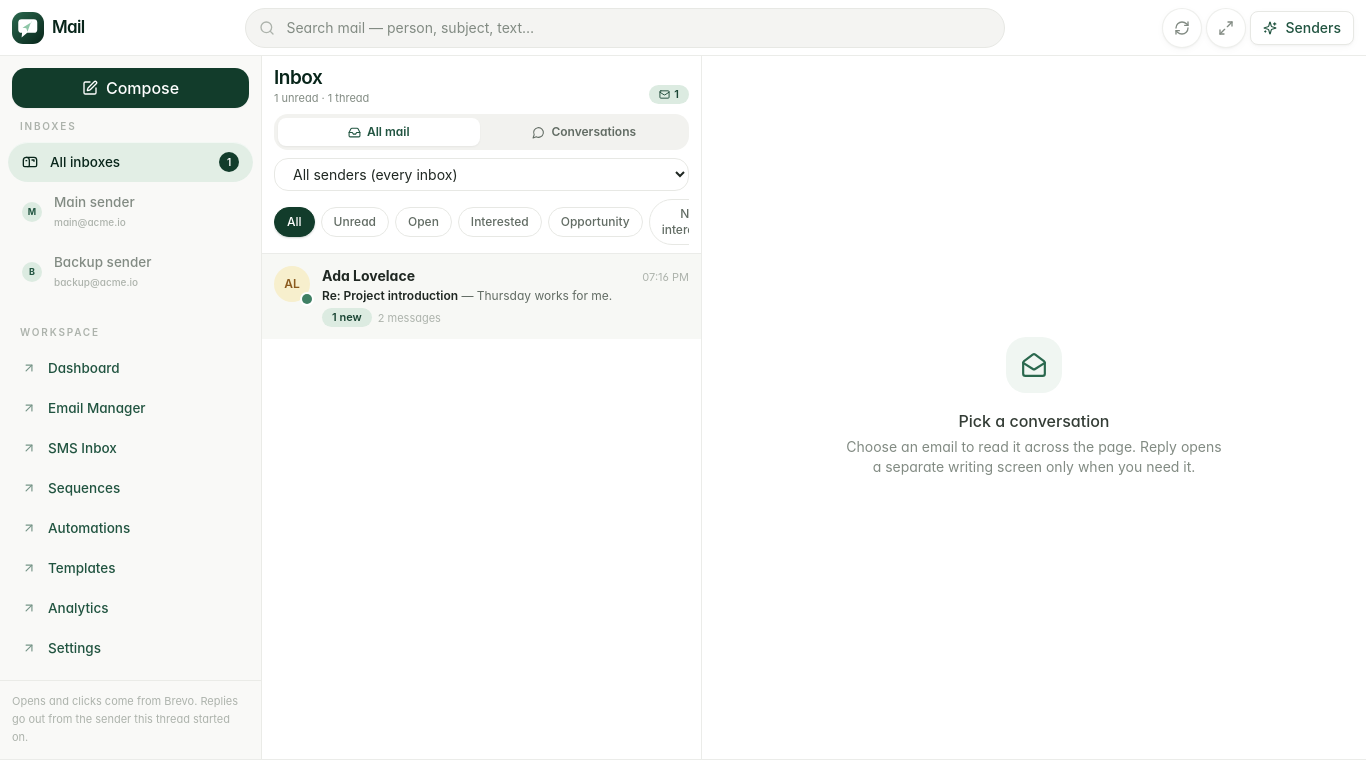
Scenario: EmailInboxPage — reading first, reply on its own page › keeps the draft and shows the reason when the provider returns success=false
Click the button "Ada Lovelace": click(482, 297) [262,254,701,339]
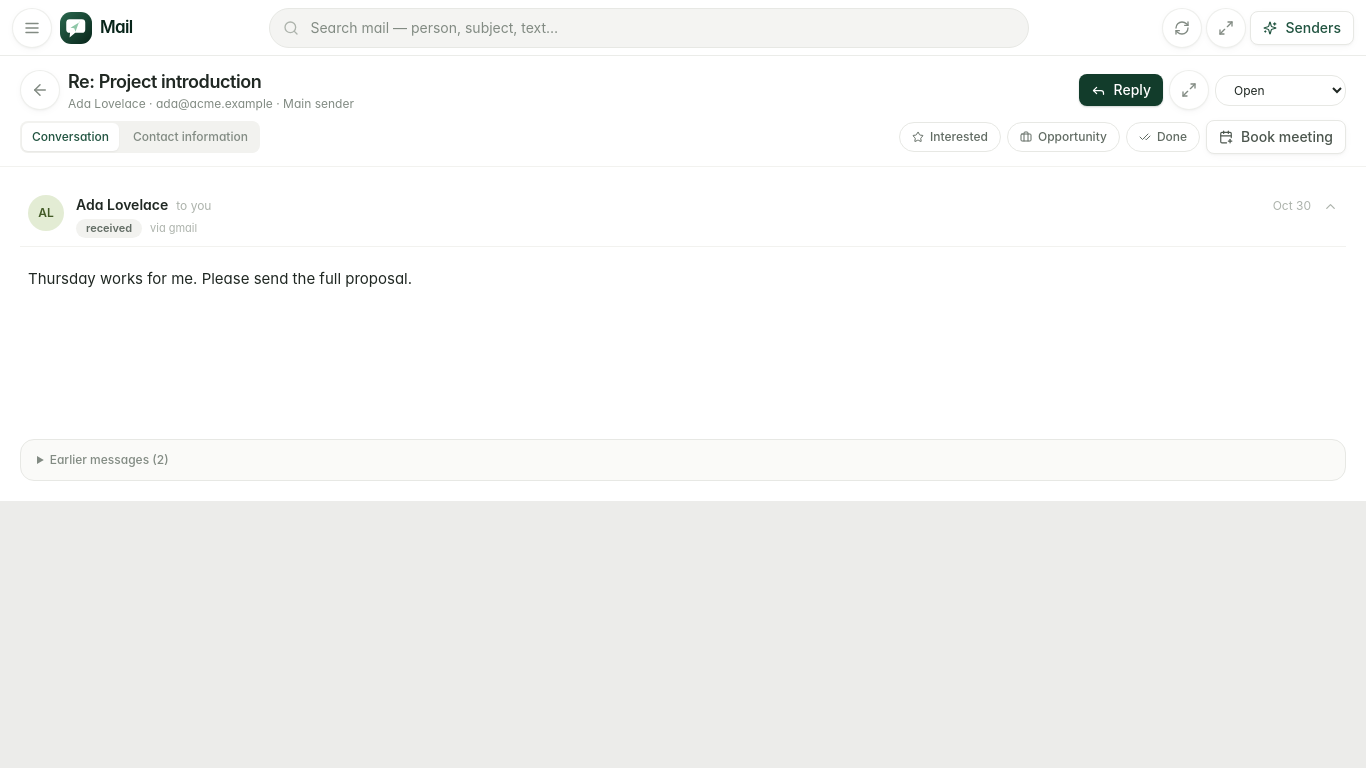
Click the button "Reply": click(1121, 90) [1079,74,1163,106]
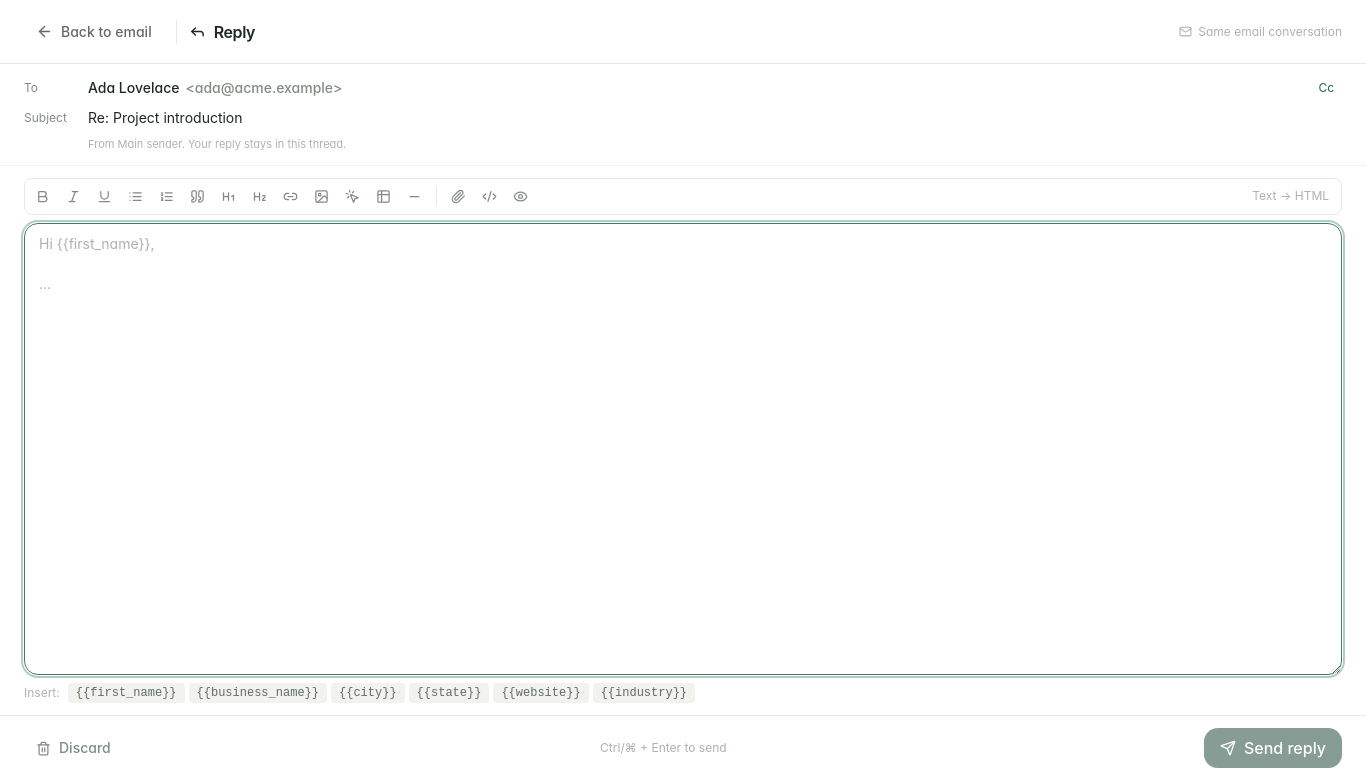
In the text box named "Reply message": (683, 449) [24,222,1342,675], type "Do not lose this"
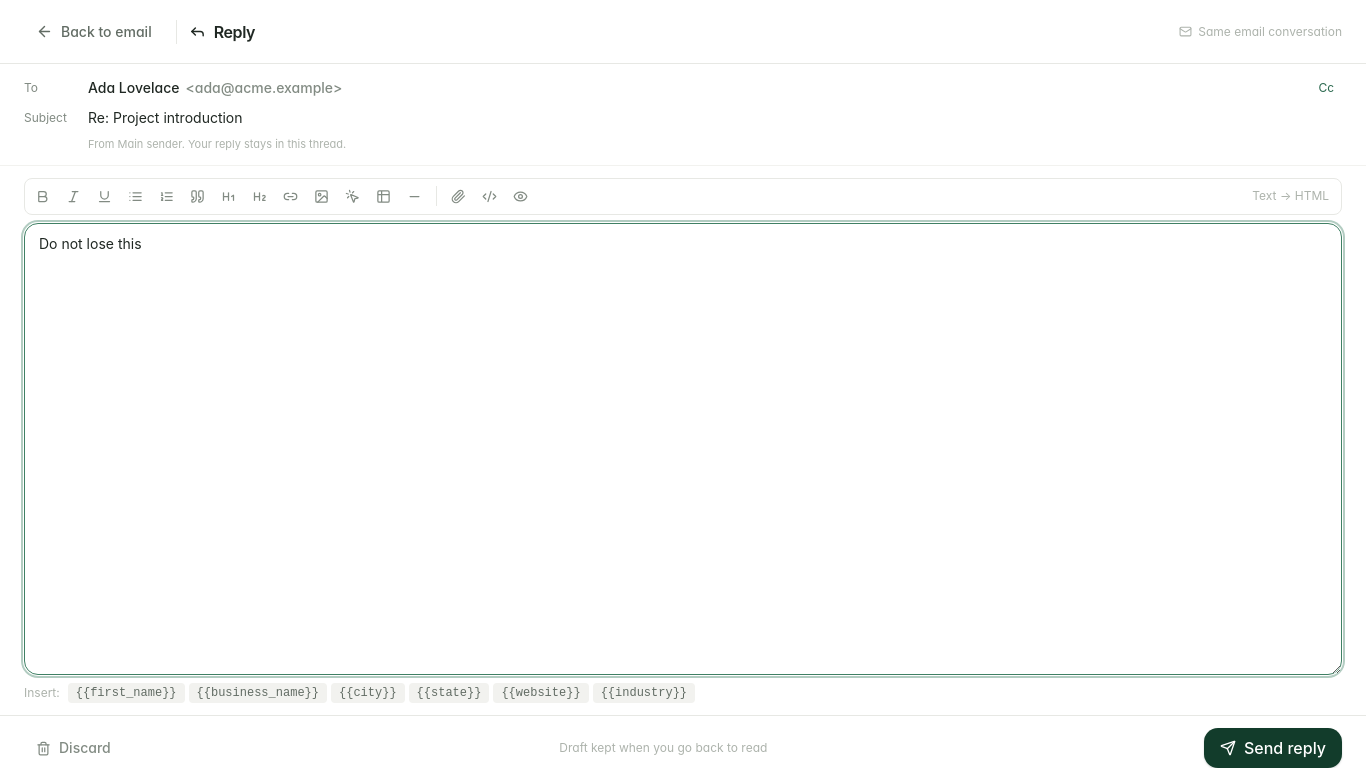
Click the button "Send reply": click(1273, 748) [1204,728,1342,767]
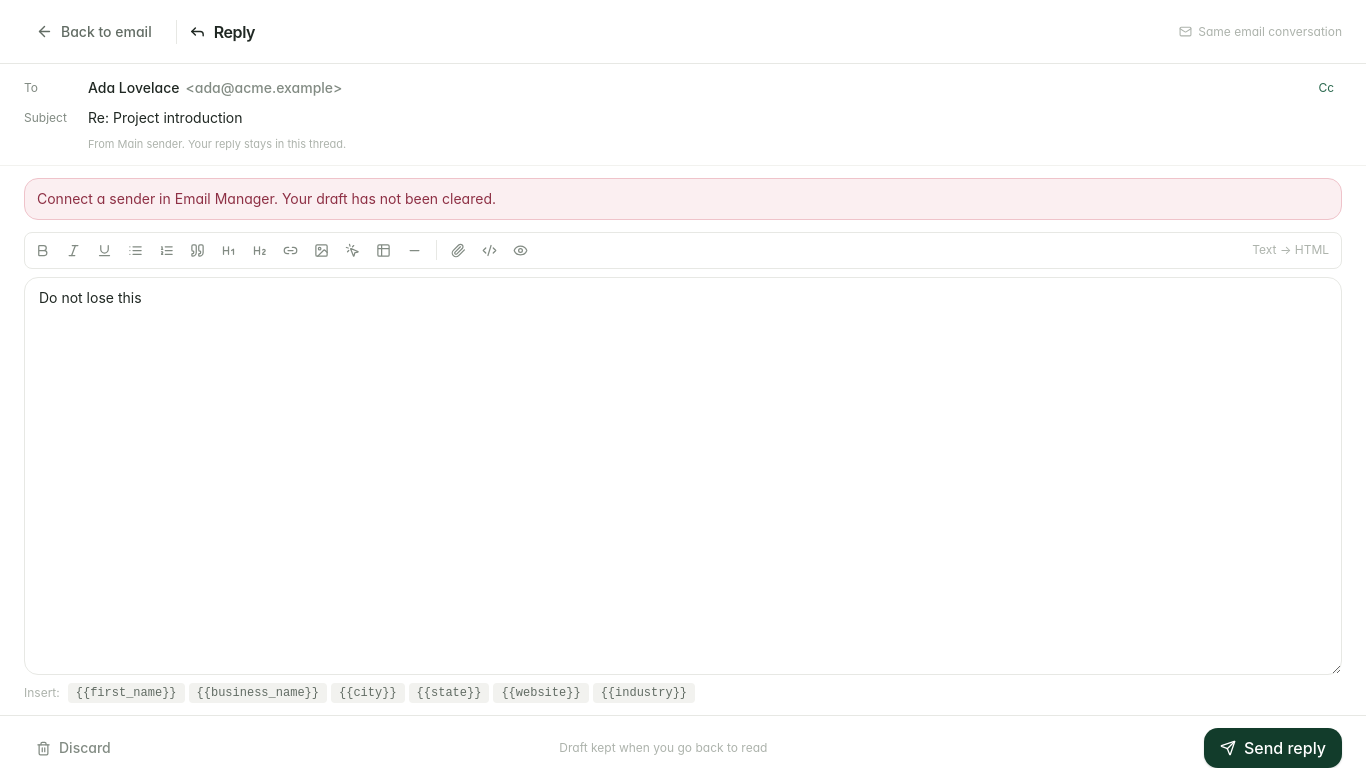
Check: the element named "Reply page" is shown
Check: the message shows "Connect a sender in Email Manager.", box [37,190,278,206]
